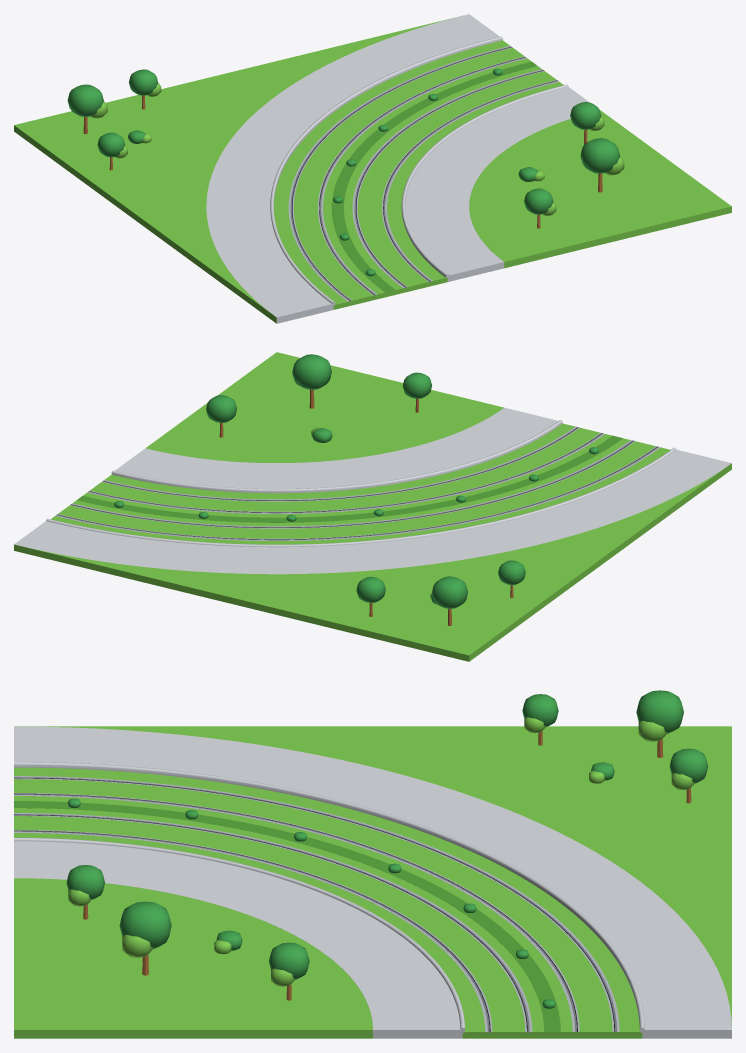
The model's file is bonde_grama_curva.glb.
3 views of the same model, one above another, from view 1: azimuth 30°, elevation 25°; view 2: azimuth 150°, elevation 25°; view 3: azimuth 270°, elevation 25° (orthographic). The views are drawn at different scales.
Parts seen in each view (by area): view 1: bonde_grama_curva; view 2: bonde_grama_curva; view 3: bonde_grama_curva.
Part boxes in pixels (x1,y1,x2,y2): bonde_grama_curva: (14, 14, 731, 323); bonde_grama_curva: (14, 352, 731, 661); bonde_grama_curva: (14, 690, 731, 1038).
Bounding box in the file's own units: 30 × 3.56 × 30.
1 material, 1 textured.
